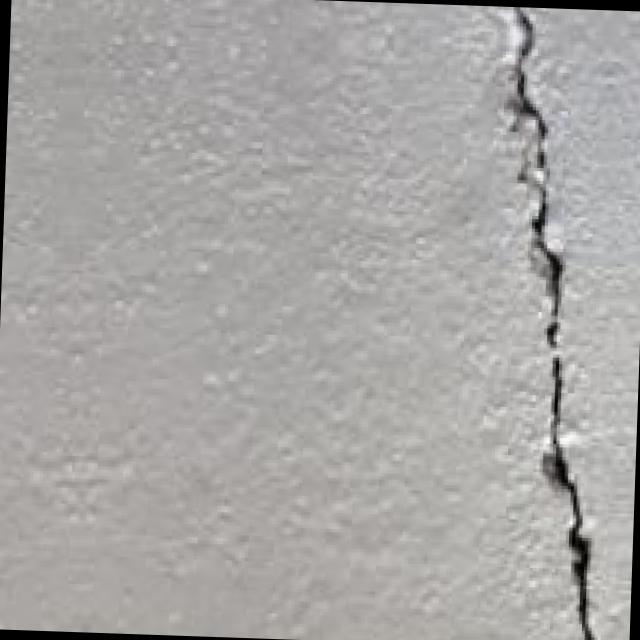crack: (459, 5, 640, 640)
